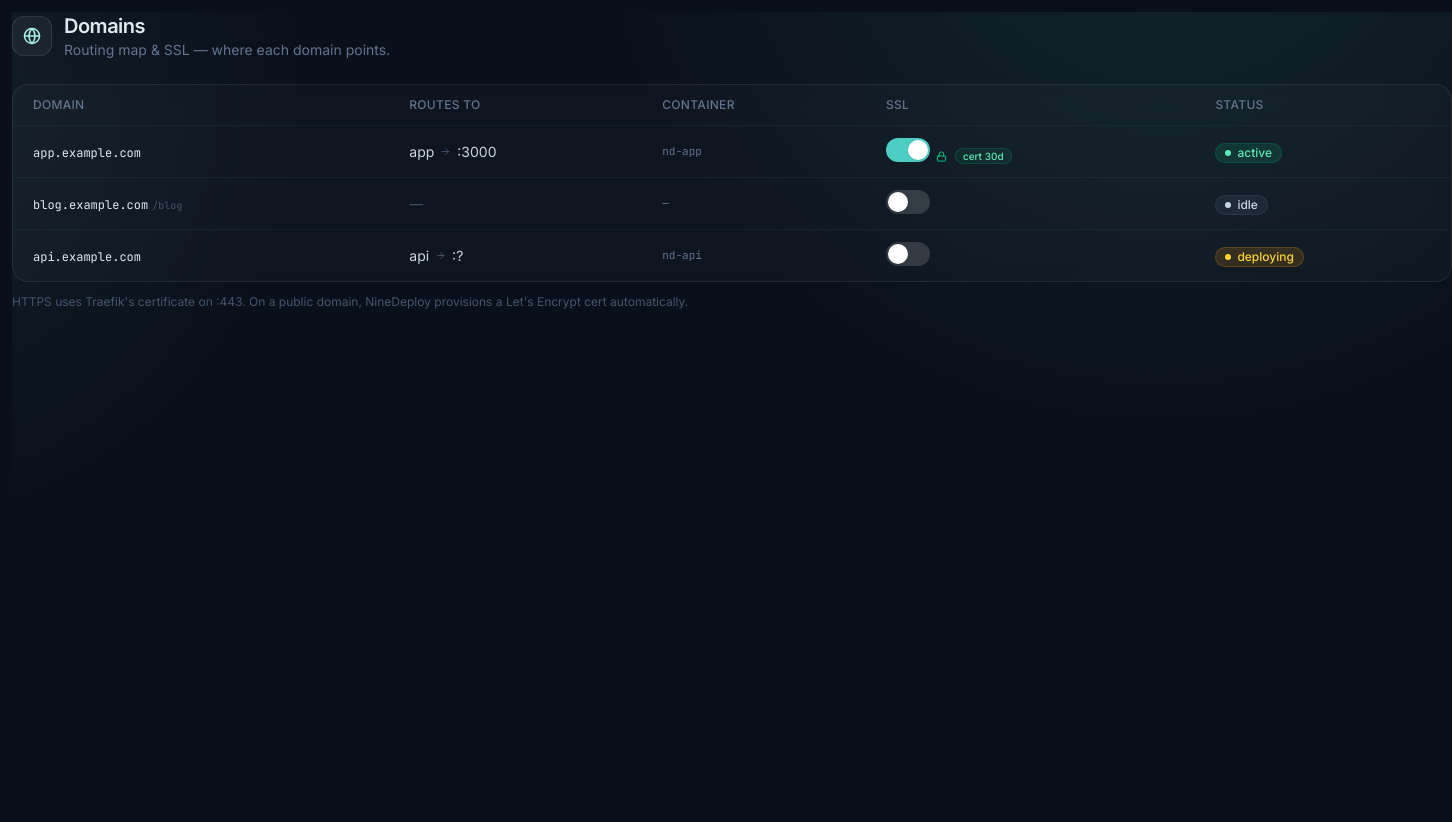
Test: Domains › surfaces ssl toggle failures
This screenshot has width=1452, height=822.
Click the switch named "Enable HTTPS" in the row of "blog.example.com" at [908, 202], box [886, 190, 930, 214]
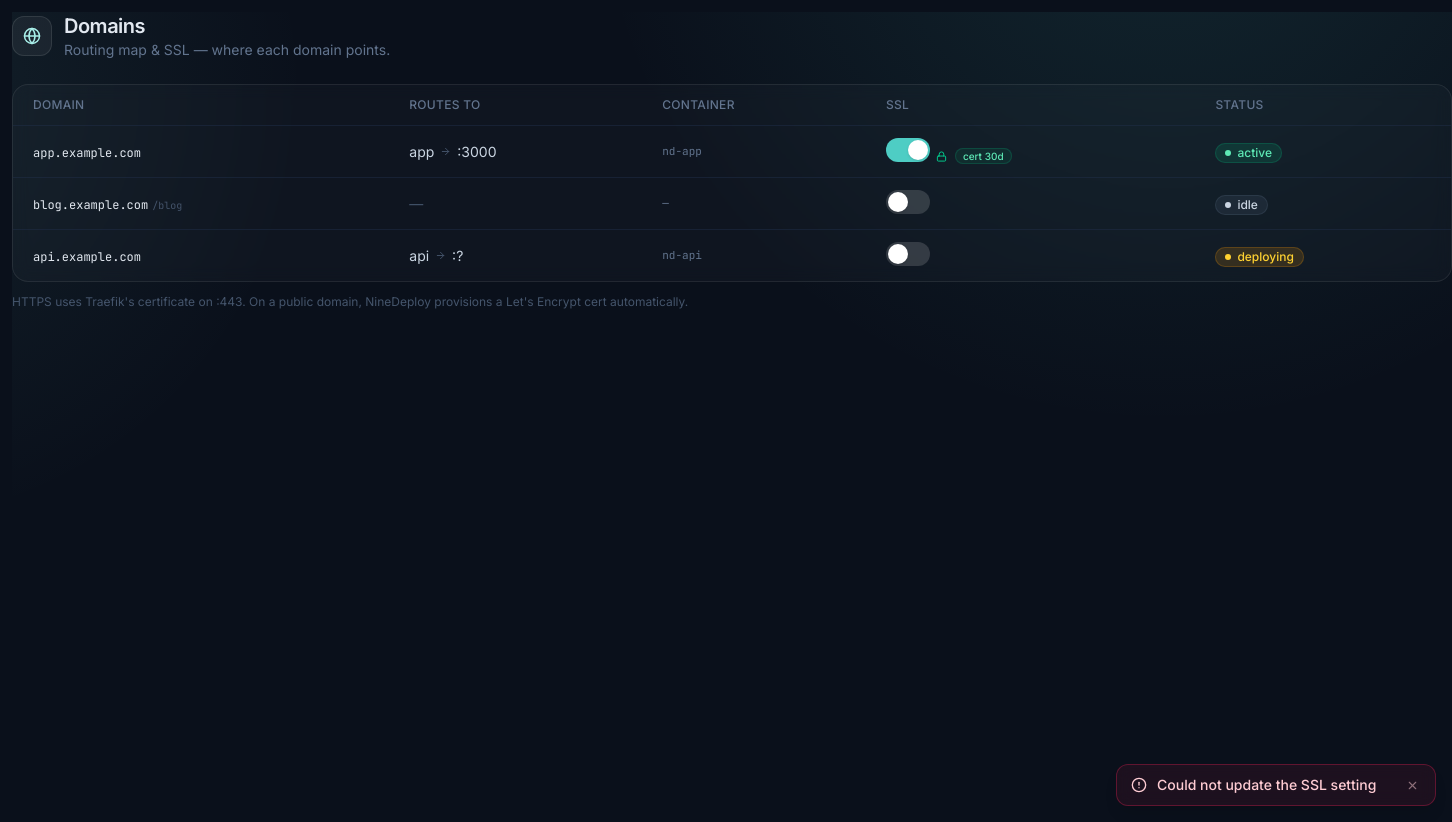
Result: the text "Could not update the SSL setting" is shown at [1157, 775, 1394, 795]
